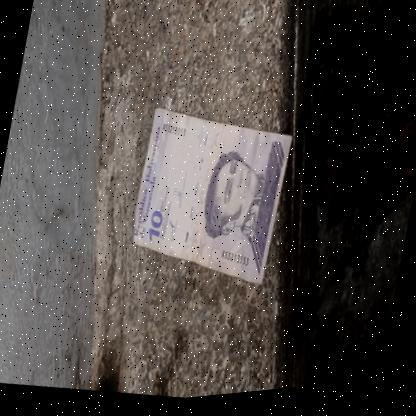ten-front-vef: (123, 98, 297, 303)
